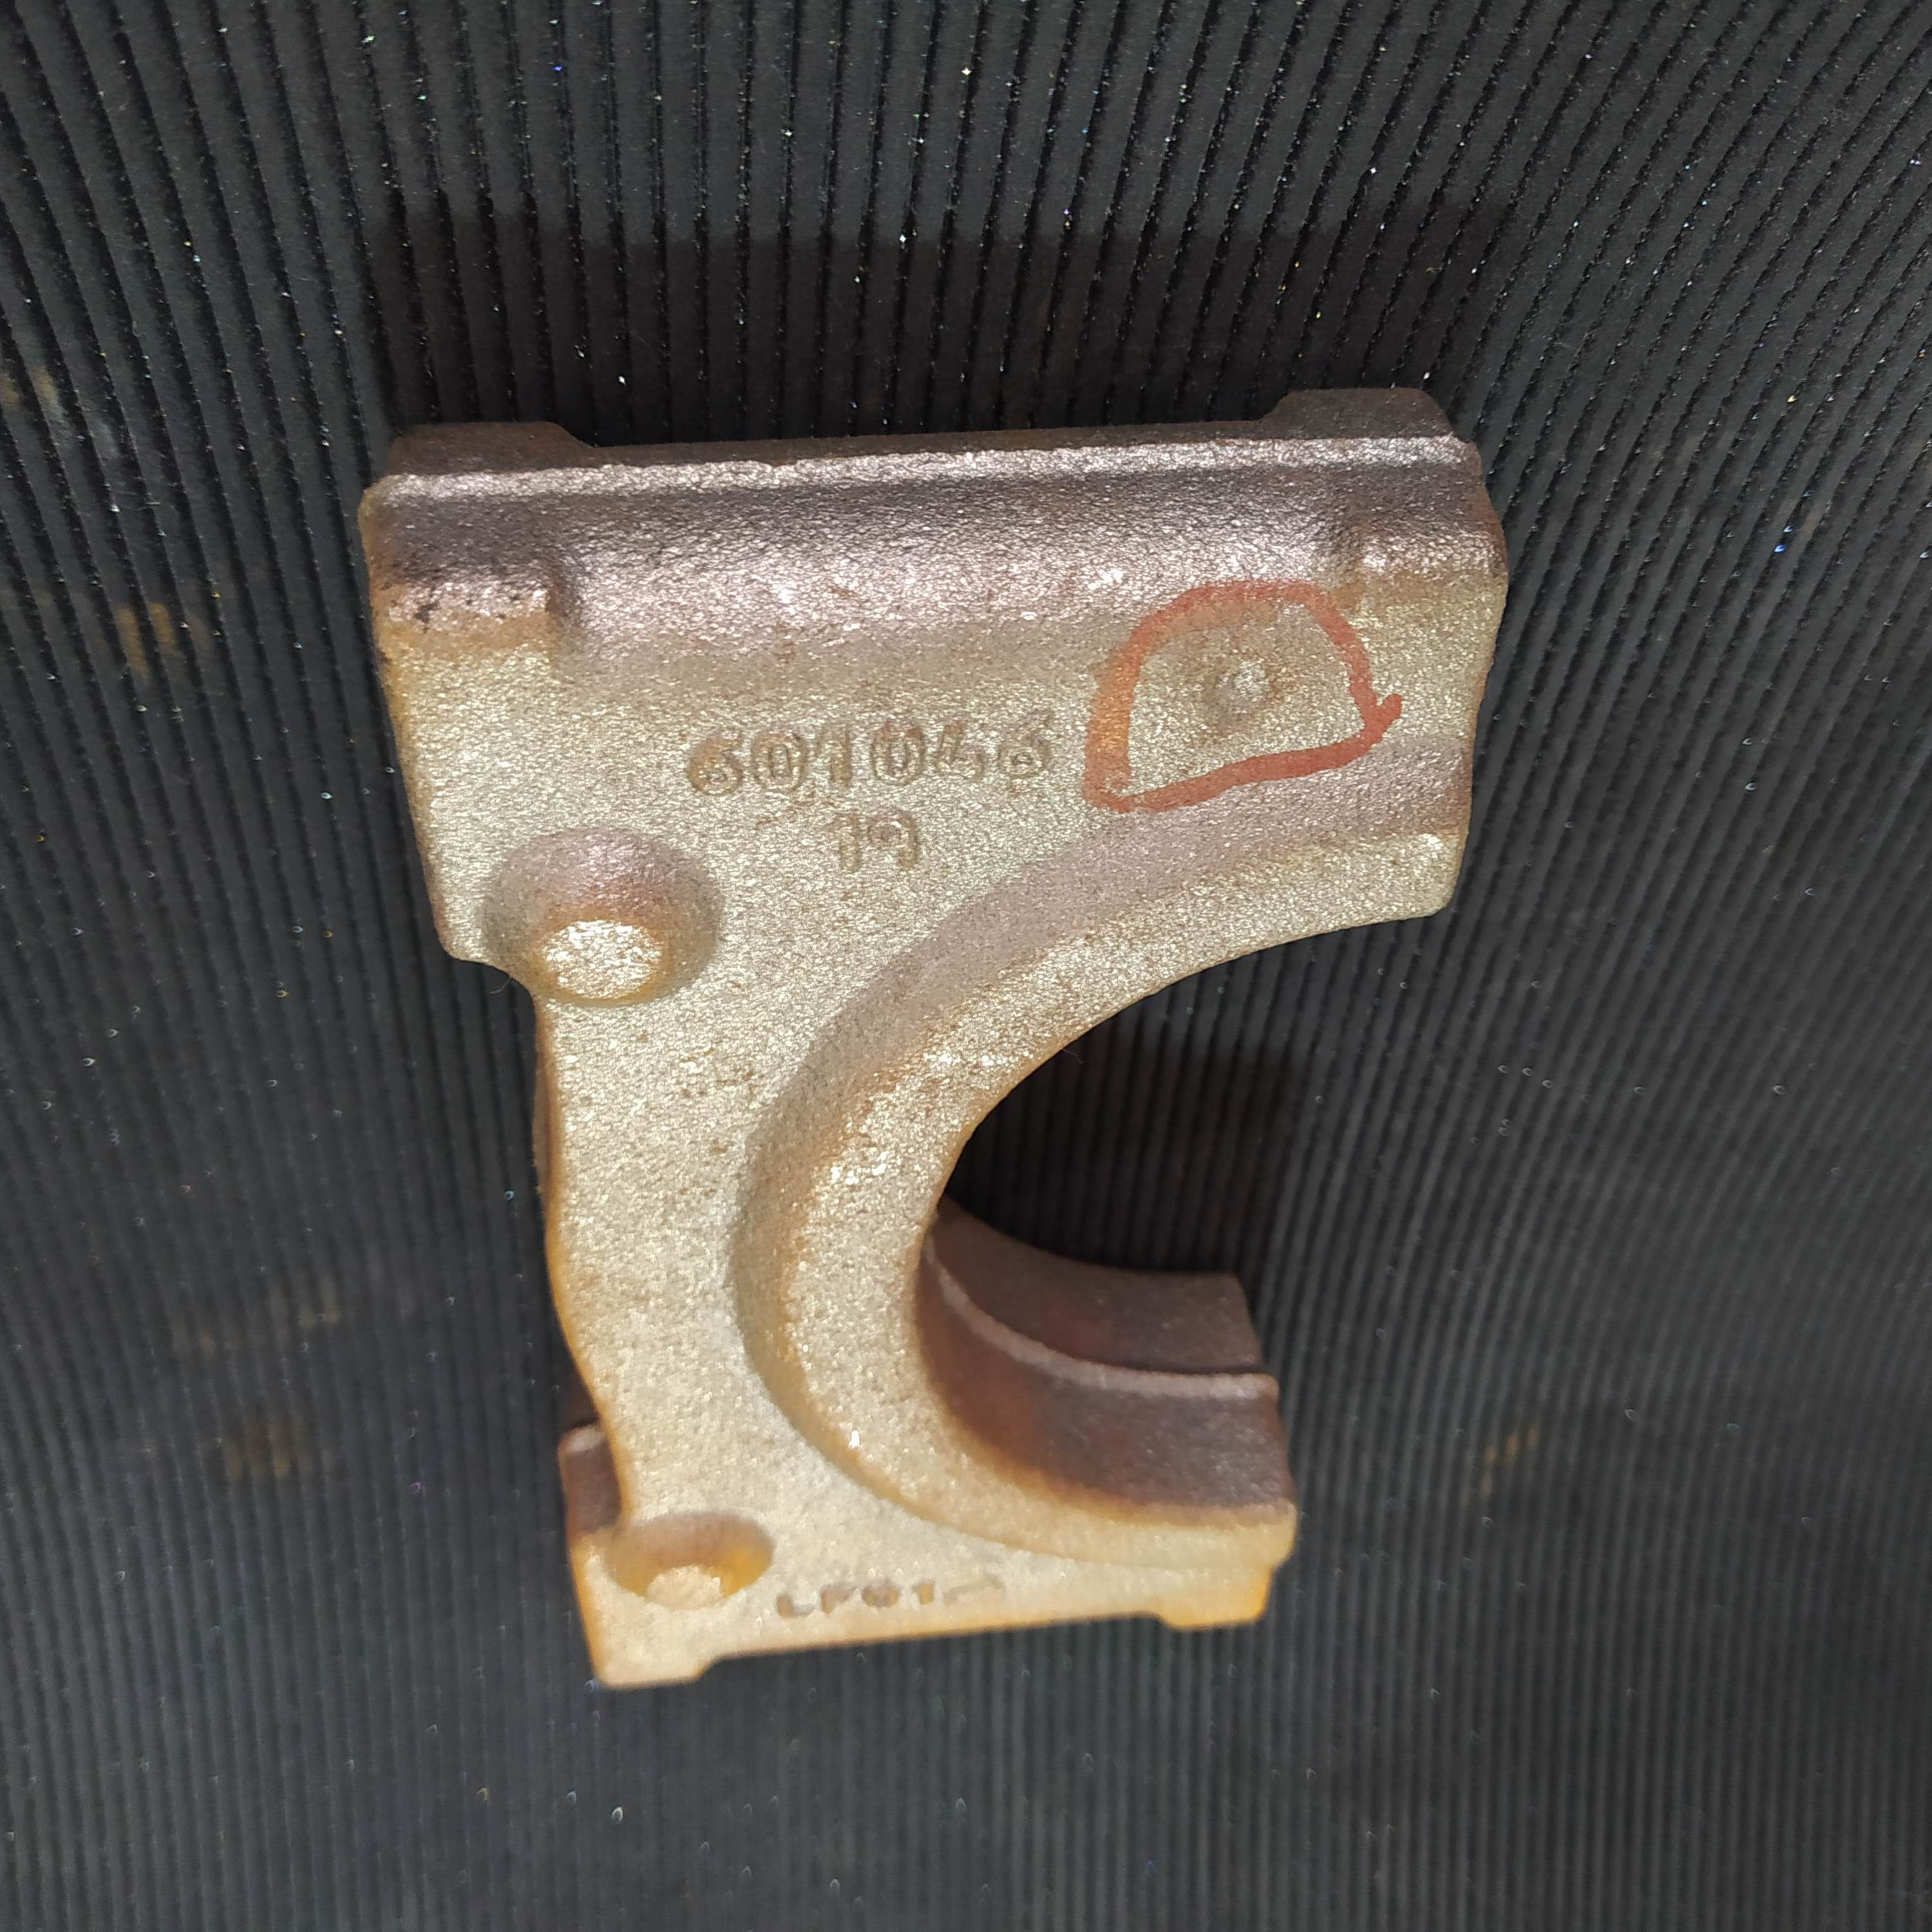buraco: (1192, 644, 1283, 732)
